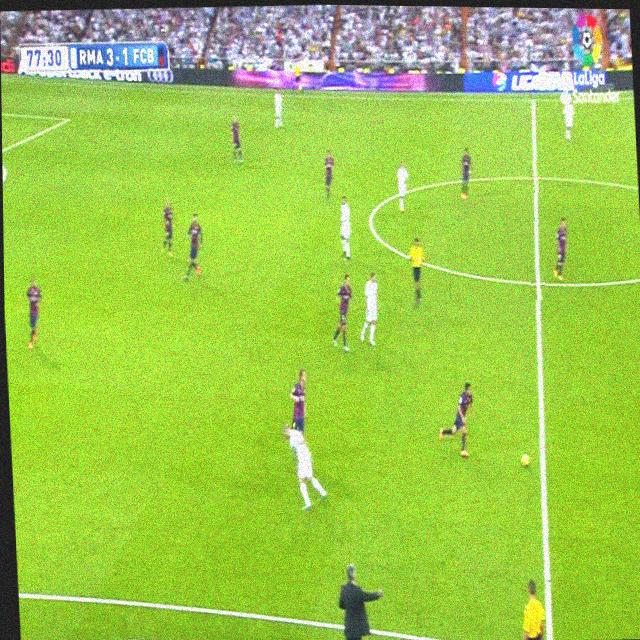halfcircle_bottom: (530, 264, 545, 300)
halfcircle_top: (528, 160, 542, 192)
midline_top_intersection: (527, 90, 539, 109)
